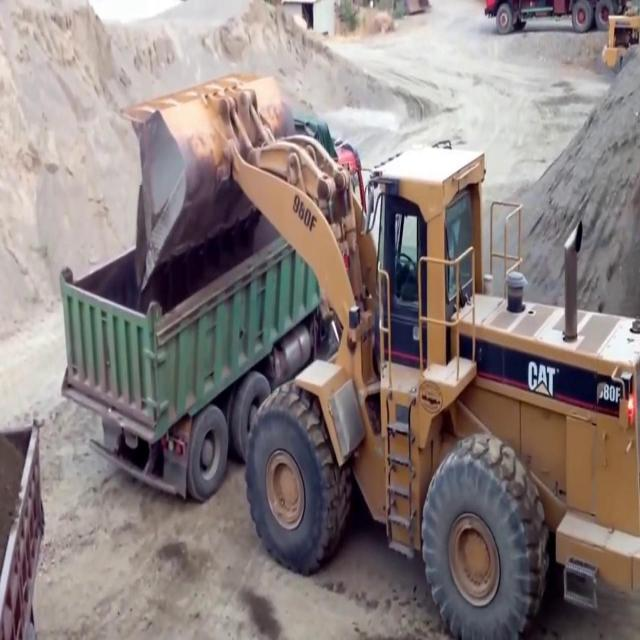buldozerpayloadergrader: (116, 70, 640, 639)
dump_truck: (56, 124, 364, 502)
